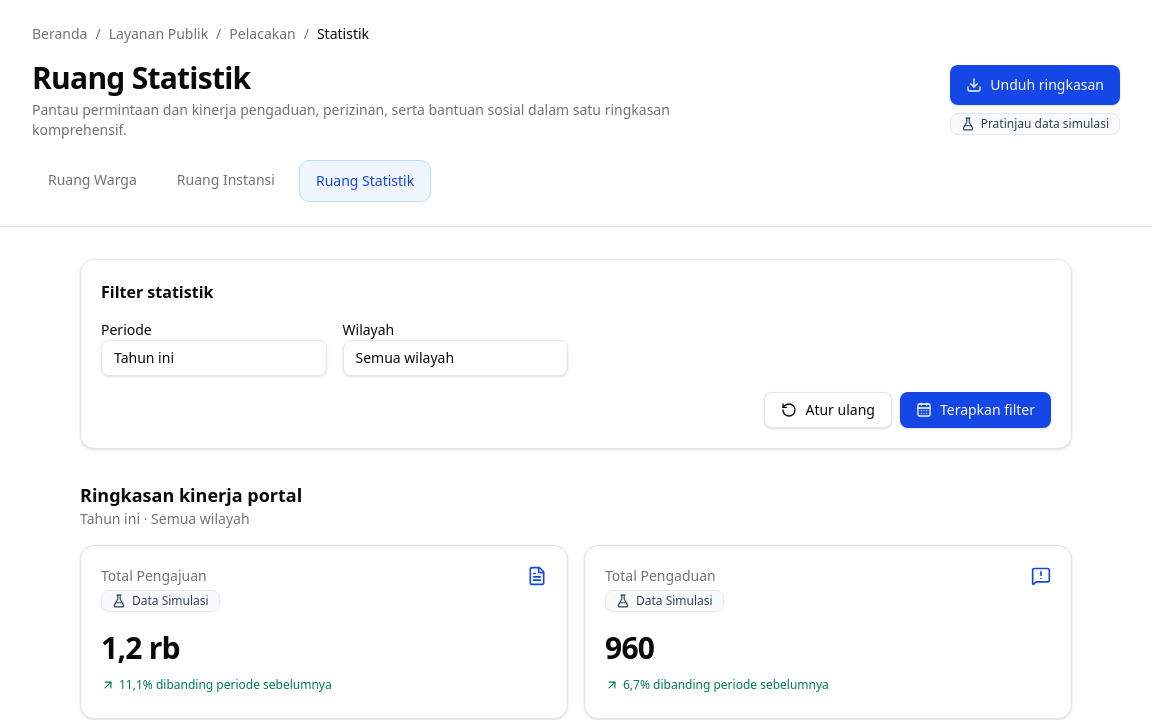
Test: StatisticsRoom › loads the default dashboard and applies filters without page navigation
Expected: the text "Tahun ini · Semua wilayah" is shown, [80,509,250,528]
Expected: the heading "Ruang Statistik" is shown, [32,57,250,98]
Select "Kuartal ini" in the dropdown named "Periode statistik" at (214, 358), box [101,340,326,376]
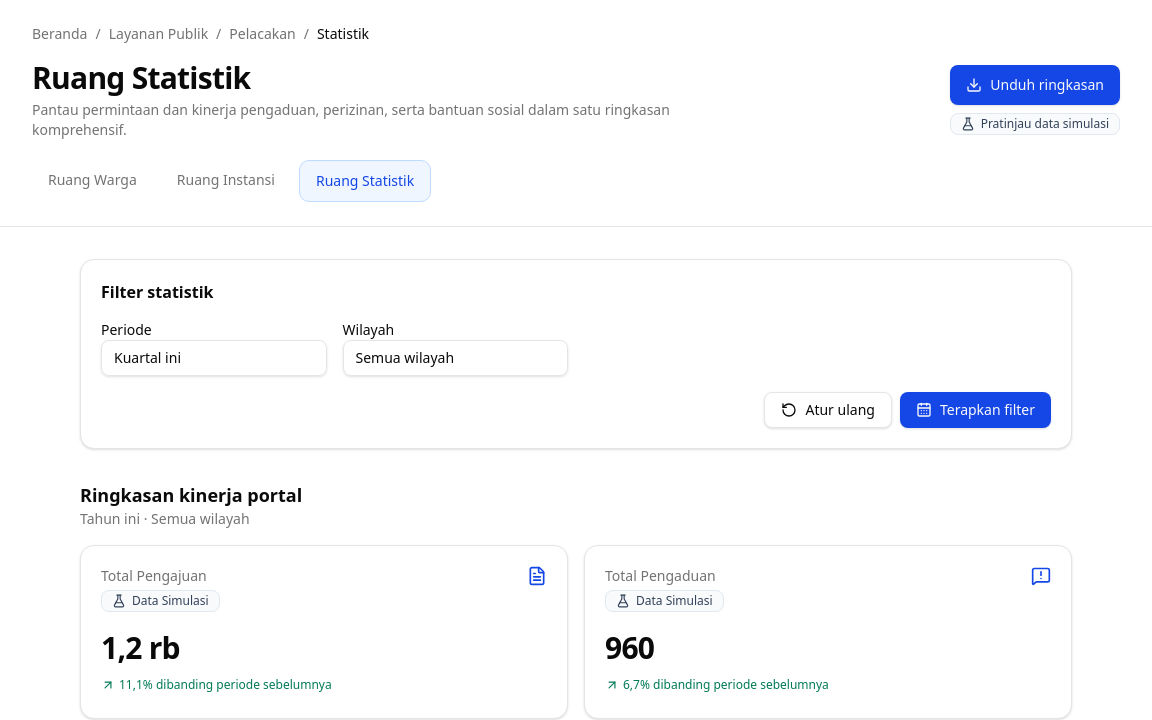
Select "Jawa Barat" in the dropdown named "Wilayah statistik" at (455, 358), box [342,340,568,376]
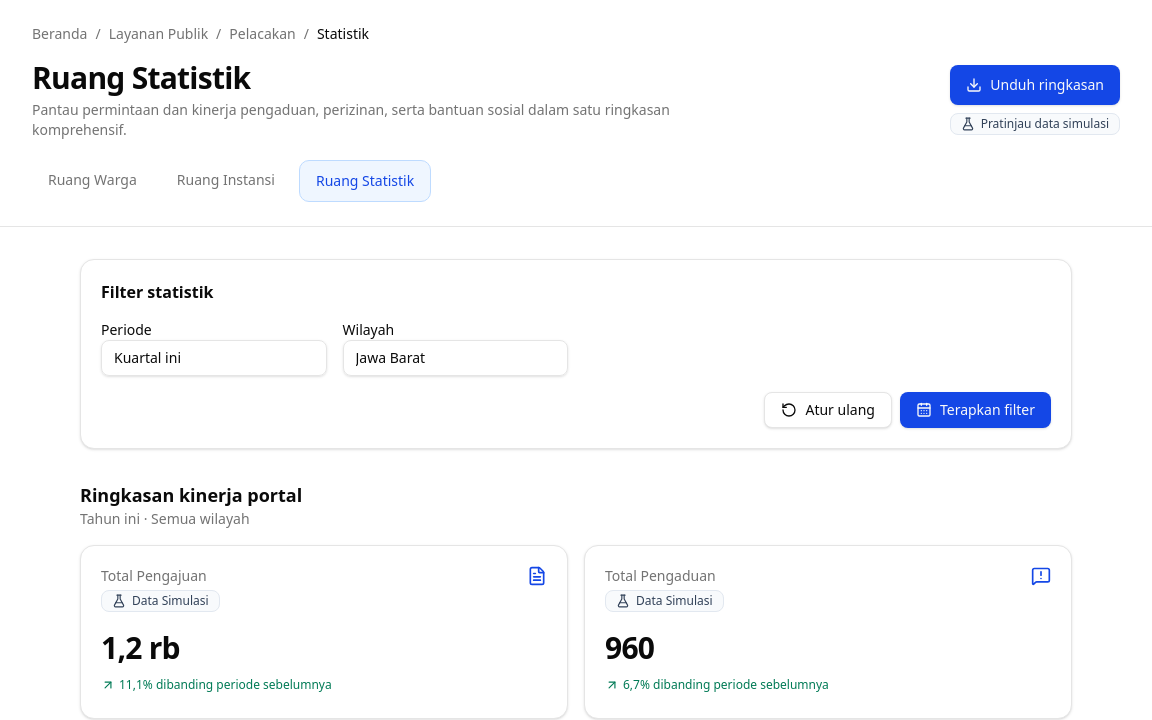
Click the button "Terapkan filter".
click(975, 410)  # box [900,392,1051,428]
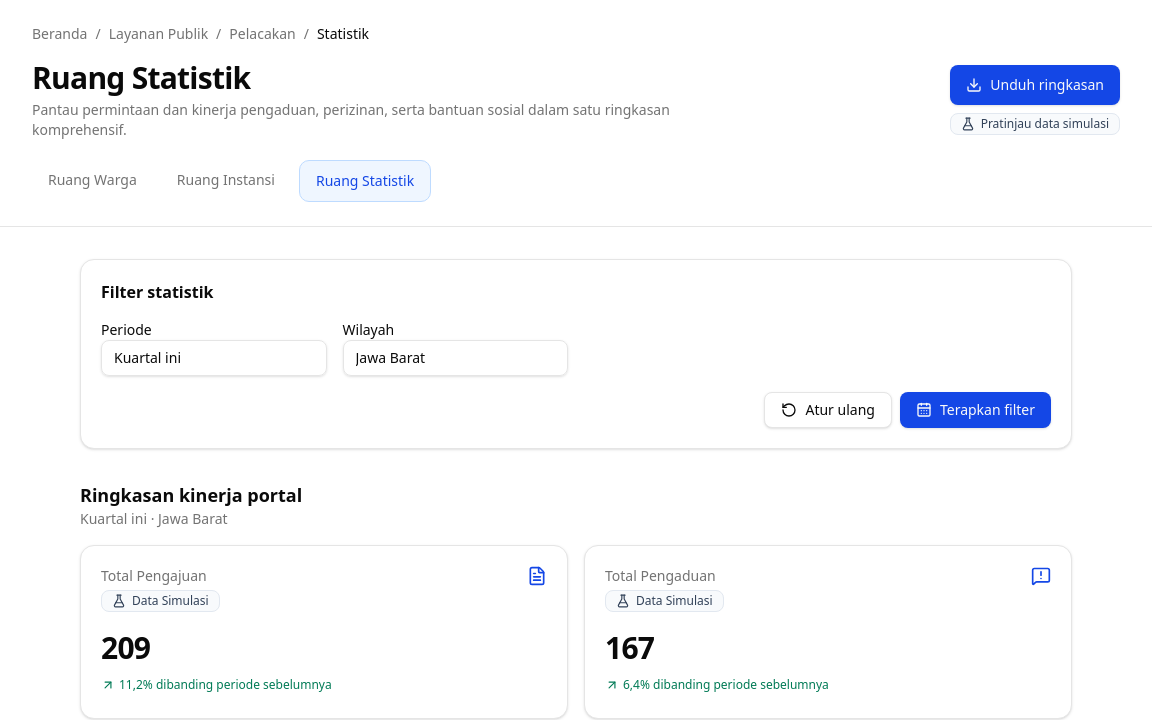
Expected: the text "Kuartal ini · Jawa Barat" is shown, [80,509,228,528]
